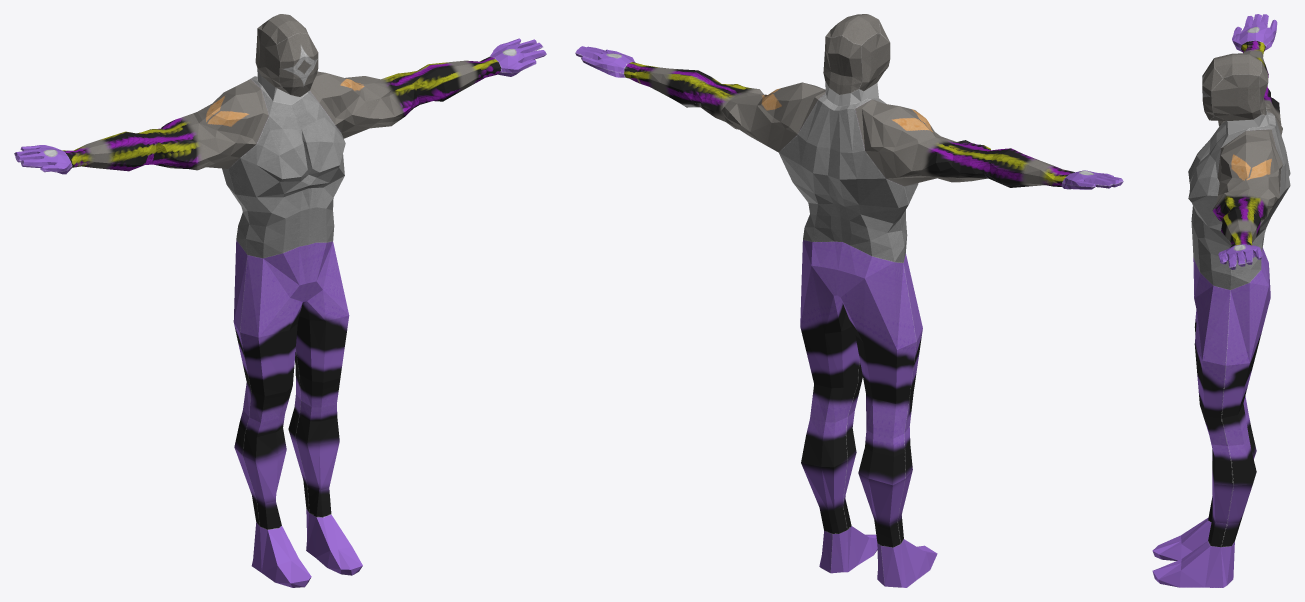
The model's file is Rig_General_For_Animation.fbx.
3 renders of one model, left to right at view 1: azimuth 30°, elevation 25°; view 2: azimuth 150°, elevation 25°; view 3: azimuth 270°, elevation 25°, orthographic. The views are drawn at different scales.
Visible parts, largest first — view 1: Cube; view 2: Cube; view 3: Cube.
Part boxes in pixels (box(x1,y1,x2,y2)): Cube: box(14, 14, 546, 587); Cube: box(575, 14, 1123, 587); Cube: box(1152, 14, 1290, 587).
Size of the model in its own units: 106 by 105 by 25.5.
